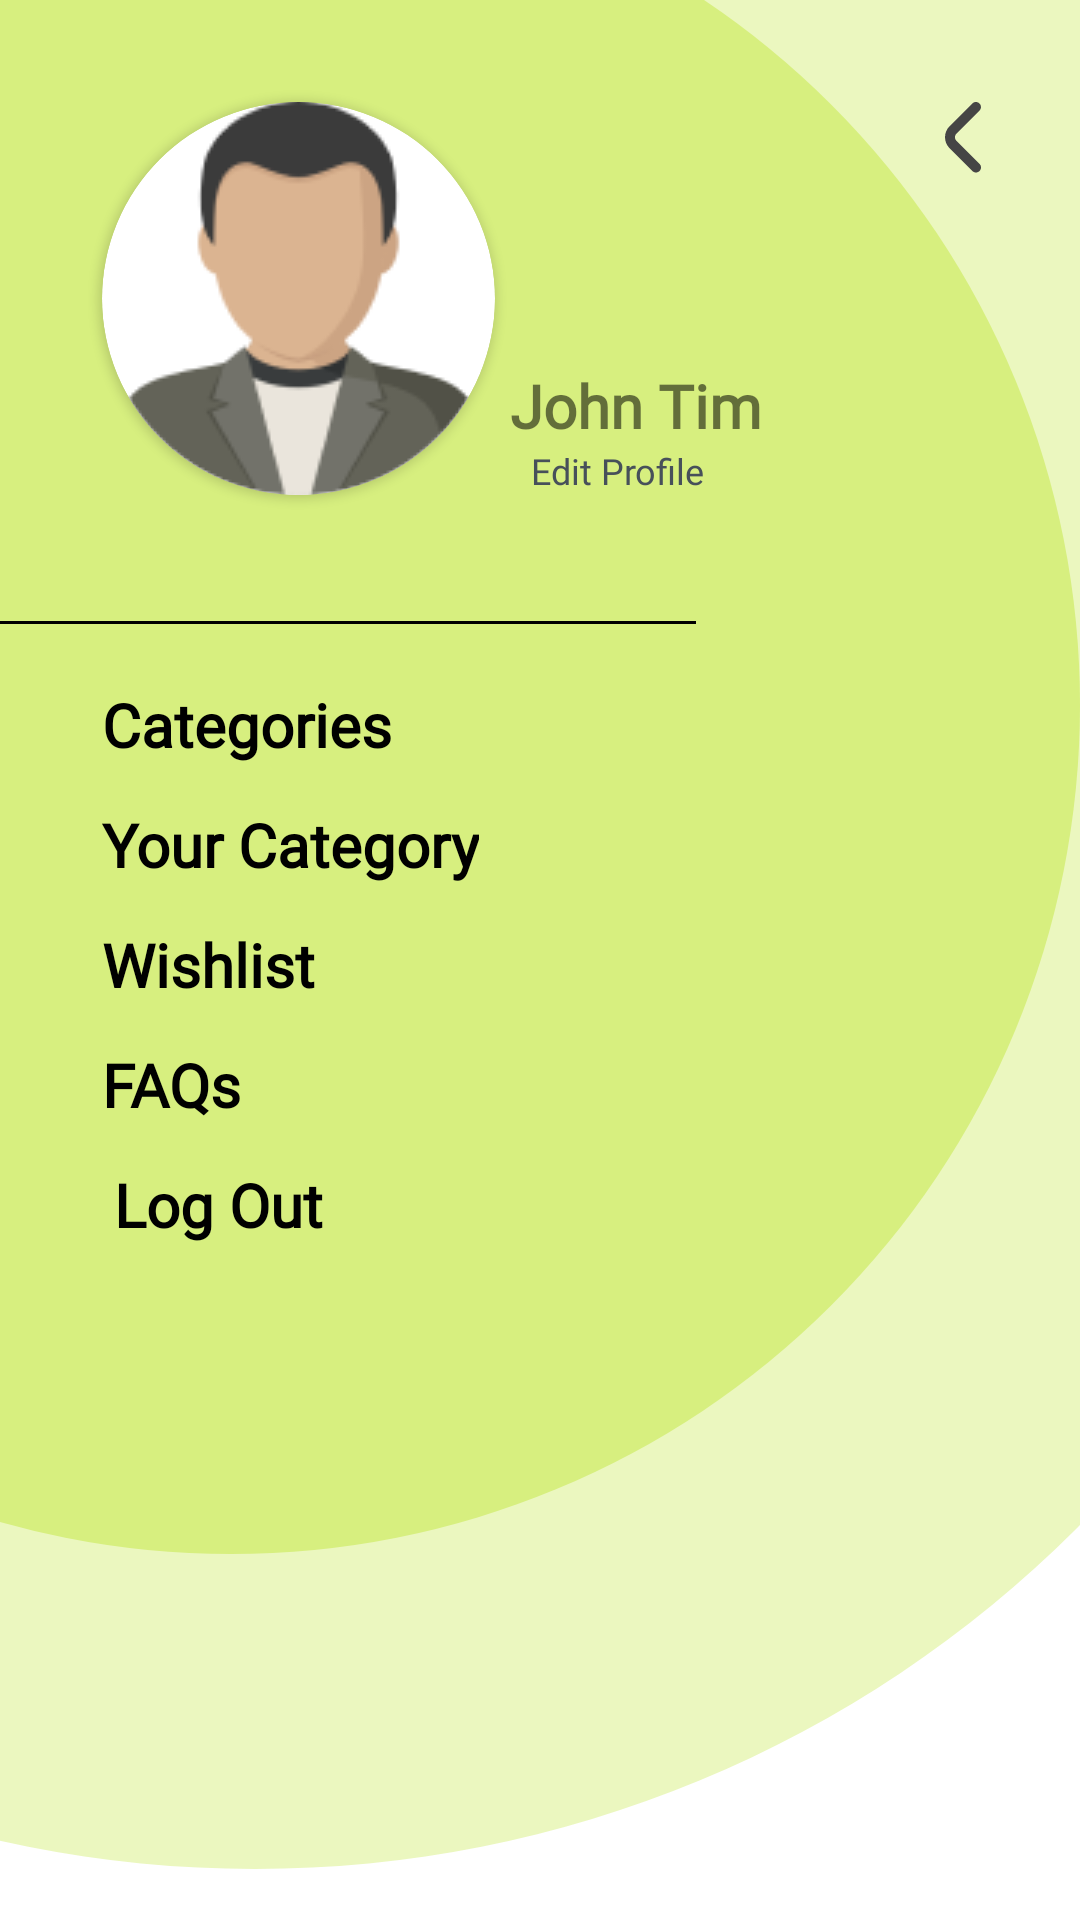

Locate icon controls on the screen. Image size 1080 x 1920, boxes as (x1, y1, x2, y2).
back: (945, 102, 981, 173)
